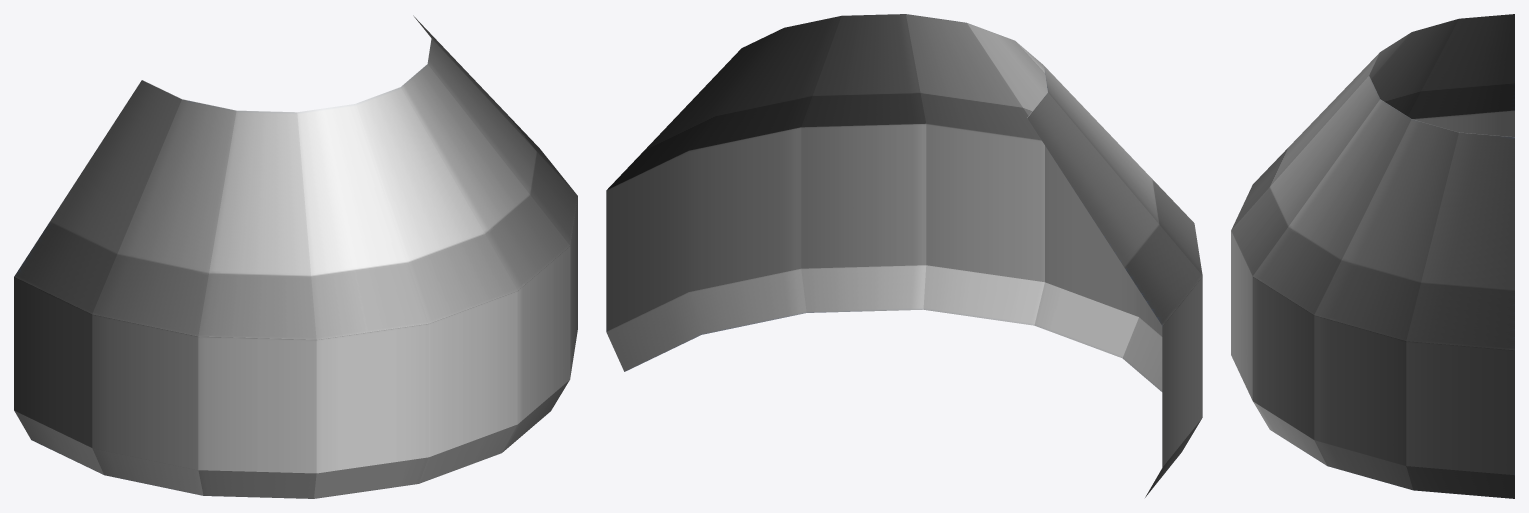
3 views of the same model, side by side, from view 1: azimuth 30°, elevation 25°; view 2: azimuth 150°, elevation 25°; view 3: azimuth 270°, elevation 25° (orthographic). The views are drawn at different scales.
Visible parts, largest first — view 1: Cylinder; view 2: Cylinder; view 3: Cylinder.
Part boxes in pixels (<box>): Cylinder: <box>14,15,577,498</box>; Cylinder: <box>606,14,1202,497</box>; Cylinder: <box>1231,14,1514,498</box>.
Size of the model in its own units: 0.8256 by 0.4999 by 0.4128.
Materials: 1 (1 with a texture image).
